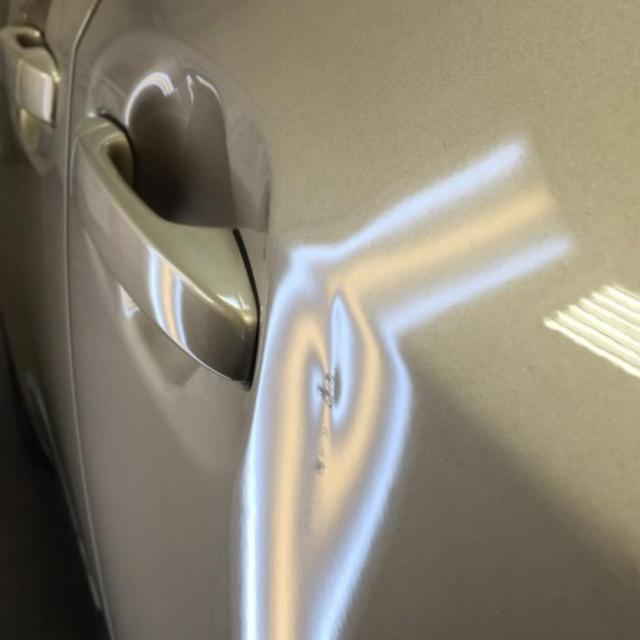dents: (287, 322, 384, 456)
